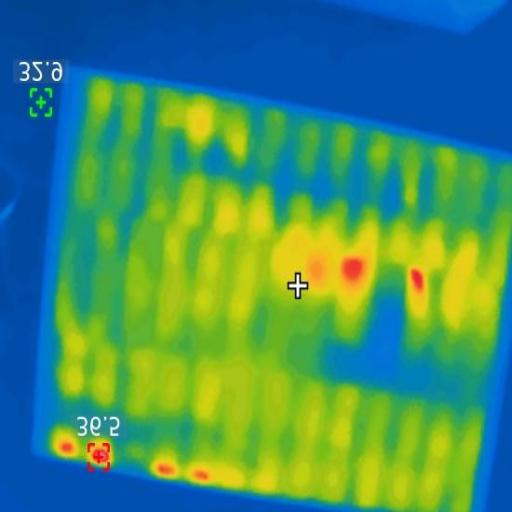hotspot: (86, 438, 117, 470), (342, 255, 370, 280), (409, 261, 427, 296), (152, 460, 186, 472), (57, 437, 77, 454), (192, 468, 211, 481)
